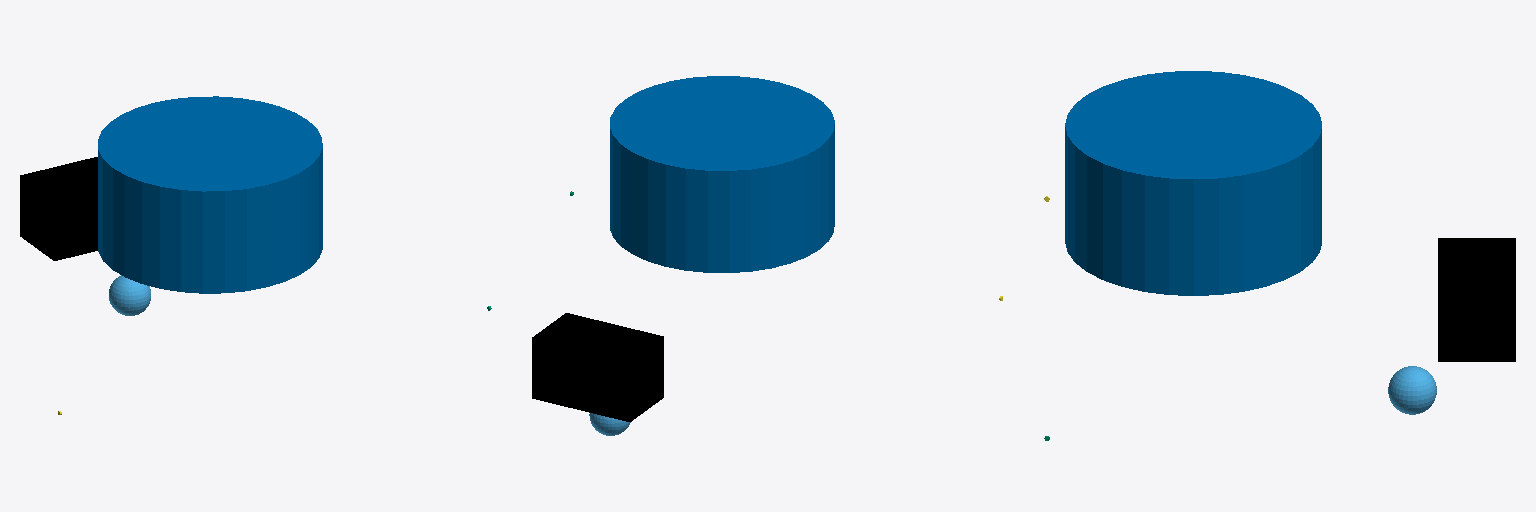
robot.urdf — 2wheels:
<?xml version="1.0"?>
<robot name="2wheels" xmlns:xacro="http://www.ros.org/wiki/xacro">
  
  <!-- Chassis link -->
  <link name="link_chassis">
    <!-- pose and inertial -->
    <pose>0 0 0 0 0 0</pose>
    <inertial>
      <mass value="10.0"/>
      <origin rpy="0 0 0" xyz="0.01 0 0.03"/>
      <inertia ixx="0.007" ixy="0" ixz="0" iyy="0.00547" iyz="0" izz="0.012023"/>
    </inertial>
    <!-- body -->
    <collision name="collision_chassis">
      <origin rpy=" 0 0 0" xyz="0.01 0 0.03"/>
      <geometry>
        <box size="0.18 0.2 0.06"/> <!-- ancho, largo, alto -->
      </geometry>
    </collision>
    <visual>
      <origin rpy="0 0 0.0" xyz="0.0 0 0.0"/>
      <geometry>
        <mesh filename="package://two_wheels_description/meshes/robotmodel.dae"/>
      </geometry>
      <material name="blue"/> <!-- This is only for Rviz visualization -->
    </visual>
  </link>
  
  <!-- caster joint -->
  <joint name="joint_caster" type="continuous">
    <origin rpy="0 0 0" xyz="0.008 0.085 -0.015"/>
    <child link="caster_wheel"/>
    <parent link="link_chassis"/>
    <axis rpy="0 0 0" xyz="0 0 1"/>
    <limit effort="1000" velocity="100"/>
    <joint_properties damping="0.0" friction="0.0"/>
  </joint>

  
  <!-- caster front link -->
  <link name="caster_wheel">
    <inertial>
      <mass value="0.05"/>
      <origin rpy="0 0 0" xyz="0 0 0"/>
      <inertia ixx="0.000001" ixy="0" ixz="0" iyy="0.000001" iyz="0" izz="0.000001"/>
    </inertial>
    <collision name="caster_front_collision">
      <origin rpy=" 0 0 0" xyz="0.0 0 0"/>
      <geometry>
        <sphere radius="0.01"/>
      </geometry>
      <surface>
        <friction>
          <ode>
            <mu>0</mu>
            <mu2>0</mu2>
            <slip1>0.0</slip1>
            <slip2>0.0</slip2>
          </ode>
        </friction>
      </surface>
    </collision>
    <visual name="caster_front_visual">
      <origin rpy=" 0 0 0" xyz="0.0 0 0"/>
      <geometry>
        <sphere radius="0.0095"/>
      </geometry>
    </visual>
  </link>
  <gazebo reference="caster_wheel">
    <mu1 value="0.0"/>
    <mu2 value="0.0"/>
    <kp value="10000000.0"/>
    <kd value="1.0"/>
    <fdir1 value="0 0 0"/>
    <material>Gazebo/Grey</material>
    <turnGravityOff>false</turnGravityOff>
  </gazebo>
  
  



  
  
  
  <!-- XXXXXXXXXXX -->
  <!-- Right wheel -->
  <!-- XXXXXXXXXXX -->
  <!-- Joint between right wheel and chassis -->
  <joint name="joint_right_wheel" type="continuous">
    <origin rpy="0 1.570 0" xyz="0.11 -0.057 0.012"/>
    <child link="link_right_wheel"/>
    <parent link="link_chassis"/>
    <axis rpy="0 0 0" xyz="0 0 -1"/>
    <limit effort="1000" velocity="100"/>
    <joint_properties damping="0.01" friction="0.01"/>
  </joint>
  <!-- right link -->
  <link name="link_right_wheel">
    <inertial>
      <mass value="0.1"/>
      <origin rpy="0 0 0" xyz="0 0 0"/>
      <inertia ixx="0.000016458" ixy="0" ixz="0" iyy="0.000016458" iyz="0" izz="0.000016458"/>
    </inertial>
     <surface>
        <friction>
          <ode>
            <mu>0.01</mu>
            <mu2>0.01</mu2>
          </ode>
        </friction>
      </surface>
    <collision name="link_right_wheel_collision">
      <origin rpy="0 0 0" xyz="0 0 0"/>
      <geometry>
        <cylinder length="0.01" radius="0.025"/>
      </geometry>
    </collision>
    <visual name="link_right_wheel_visual">
      <origin rpy="0 0 0" xyz="0 0 0"/>
      <geometry>
        <cylinder length="0.001" radius="0.001"/>
      </geometry>
    </visual>
  </link>

   
  <!-- XXXXXXXXXXX -->
  <!-- LEFT wheel -->
  <!-- XXXXXXXXXXX -->
   <!-- Joint between LEFT wheel and chassis -->
  <joint name="joint_left_wheel" type="continuous">
        <!-- Previous  xyz="-0.095 -0.055 0.01 -->
        <origin rpy="0 -1.570 0" xyz="-0.11 -0.057 0.012"/> <!-- PAY ATTENTION NEGATIVE 'y' -->
        <child link="link_left_wheel"/>
        <parent link="link_chassis"/>
        <axis rpy="0 0 0" xyz="0 0 1"/>
        <limit effort="1000" velocity="100"/>
        <joint_properties damping="0.01" friction="0.01"/>
  </joint>
  <!-- left link -->
  <link name="link_left_wheel">
        <inertial>
          <mass value="0.1"/>
          <origin rpy="0 0 0" xyz="0 0 0"/>
          <inertia ixx="0.000016458" ixy="0" ixz="0" iyy="0.000016458" iyz="0" izz="0.000016458"/>
        </inertial>
         <surface>
        <friction>
          <ode>
            <mu>0.01</mu>
            <mu2>0.01</mu2>
          </ode>
        </friction>
      </surface>
        <collision name="link_left_wheel_collision">
          <origin rpy="0 0 0" xyz="0 0 0"/>
          <geometry>
            <cylinder length="0.01" radius="0.025"/>
          </geometry>
        </collision>
        <visual name="link_left_wheel_visual">
          <origin rpy="0 0 0" xyz="0 0 0"/>
          <geometry>
            <cylinder length="0.001" radius="0.001"/>
          </geometry>
        </visual>
  </link>

  
 


  <!-- laser link -->
  <link name="sensor_laser">
    <inertial>
      <origin xyz="0 0 0" rpy="0 0 0" />
      <mass value="0.25" />
      <inertia ixx="0.000208333" ixy="0" ixz="0" iyy="0.000208333" iyz="0" izz="0.0003125"/>
    </inertial>
    
    <visual>
      <origin xyz="0 0 0" rpy="0 0 0" />
      <geometry>
        <cylinder radius="0.05" length="0.05"/>
      </geometry>
      <material name="white" />
    </visual>
    
    <collision>
      <origin xyz="0 0 0" rpy="0 0 0"/>
      <geometry>
        <cylinder radius="0.05" length="0.05"/>
      </geometry>
    </collision>
  </link>

  <!-- joint to attach the laser to the chassis -->
  <joint name="joint_sensor_laser" type="fixed">
    <origin xyz="0.0 0 0.07" rpy="0 0 0"/>
    <parent link="link_chassis"/>
    <child link="sensor_laser"/>
  </joint>

  <!-- Plugin for the wheels -->
  <gazebo>
    <plugin filename="libgazebo_ros_diff_drive.so" name="differential_drive_controller">
      <legacyMode>true</legacyMode> 
      <alwaysOn>true</alwaysOn>
      <updateRate>100</updateRate>
      <leftJoint>joint_right_wheel</leftJoint>
      <rightJoint>joint_left_wheel</rightJoint>
      <wheelSeparation>0.22</wheelSeparation>
      <wheelDiameter>0.025</wheelDiameter>
      <torque>4000</torque>
      <commandTopic>cmd_vel</commandTopic>
      <odometryTopic>odom</odometryTopic>
      <odometryFrame>odom</odometryFrame>
      <robotBaseFrame>link_chassis</robotBaseFrame>
    </plugin>
  </gazebo>

    <!-- plugin for the laser -->
   <gazebo reference="sensor_laser">
    <sensor type="ray" name="head_hokuyo_sensor">
      <pose>0 0 0 0 0 0</pose>
      <visualize>false</visualize>
      <update_rate>20</update_rate>
      <ray>
        <scan>
          <horizontal>
            <samples>720</samples>
            <resolution>1</resolution>
            <min_angle>-1.570796</min_angle>
            <max_angle>1.570796</max_angle>
          </horizontal>
        </scan>
        <range>
          <min>0.10</min>
          <max>10.0</max>
          <resolution>0.01</resolution>
        </range>
        <noise>
          <type>gaussian</type>
          <mean>0.0</mean>
          <stddev>0.01</stddev>
        </noise>
      </ray>
      <plugin name="gazebo_ros_head_hokuyo_controller" filename="libgazebo_ros_laser.so">
        <topicName>/m2wr/laser/scan</topicName>
        <frameName>sensor_laser</frameName>
      </plugin>
    </sensor>
  </gazebo>


  <!-- XXXXXXXXXXXXXXXXXXXXXXXXXXXXXX
  Simulation of a camera:
  XXXXXXXXXXXXXXXXXXXXXXXXXXXXX-->
  <joint name="camera_joint" type="fixed">
    <axis xyz="0 0 0" />
    <origin xyz="0.0 0.11 0.02" rpy="0 0 1.5708"/>
    <parent link="link_chassis"/>
    <child link="camera_link"/>
  </joint>
 <!-- Camera -->
  <link name="camera_link">
    <collision>
      <origin xyz="0 0 0" rpy="0 0 0"/>
      <geometry>
    <box size="0.03 0.05 0.03"/>
      </geometry>
    </collision>

    <visual>
      <origin xyz="0 0 0" rpy="0 0 0"/>
      <geometry>
    <box size="0.03 0.05 0.03"/>
      </geometry>
      <material name="Black_1">
       <color rgba="0.0 0.0 0.0 1.0"/>
     </material>
    </visual>

    <inertial>
      <mass value="0.001" />
      <origin xyz="0 0 0" rpy="0 0 0"/>
      <inertia ixx="0.000001" ixy="0" ixz="0" iyy="0.000001" iyz="0" izz="0.000001" />
    </inertial>
  </link>
  <!-- Plugin for the camera -->
   <gazebo reference="camera_link">
    <sensor type="camera" name="camera1">
      <update_rate>30.0</update_rate>
      <camera name="camera1">
        <horizontal_fov>1</horizontal_fov>
        <image>
          <width>640</width>
          <height>480</height>
          <format>R8G8B8</format>
        </image>
        <clip>
          <near>0.02</near>
          <far>300</far>
        </clip>
        <noise>
          <type>gaussian</type>
          <!-- Noise is sampled independently per pixel on each frame.
               That pixel's noise value is added to each of its color
               channels, which at that point lie in the range [0,1]. -->
          <mean>0.0</mean>
          <stddev>0.007</stddev>
        </noise>
      </camera>
      <plugin name="camera_controller" filename="libgazebo_ros_camera.so">
        <alwaysOn>true</alwaysOn>
        <updateRate>0.0</updateRate>
        <cameraName>rrbot/camera1</cameraName>
        <imageTopicName>image_raw</imageTopicName>
        <cameraInfoTopicName>camera_info</cameraInfoTopicName>
        <frameName>camera_link</frameName>
        <hackBaseline>0.07</hackBaseline>
        <distortionK1>0.0</distortionK1>
        <distortionK2>0.0</distortionK2>
        <distortionK3>0.0</distortionK3>
        <distortionT1>0.0</distortionT1>
        <distortionT2>0.0</distortionT2>
      </plugin>
    </sensor>
  </gazebo>

<!-- ros_control Gazebo plugin -->
  <gazebo>
    <plugin name="gazebo_ros_control" filename="libgazebo_ros_control.so">
      <robotNamespace>/two_wheels_robot</robotNamespace>
      <robotSimType>gazebo_ros_control/DefaultRobotHWSim</robotSimType>
    </plugin>
  </gazebo>

    
</robot>

--- What the picture shows (computed from the rendered views, not written in the file) ---
3 views of the same robot in one strip: view 1: azimuth 30°, elevation 25°; view 2: azimuth 150°, elevation 25°; view 3: azimuth 270°, elevation 25° (orthographic).
Model 2wheels with 6 links and 5 joints (3 continuous, 2 fixed), rooted at link_chassis, posed all joints at 0.
Visible links, largest first — view 1: sensor_laser, camera_link, caster_wheel; view 2: sensor_laser, camera_link, caster_wheel; view 3: sensor_laser, camera_link, caster_wheel.
Boxes of the visible links, x1,y1,x2,y2 form: sensor_laser: [98, 96, 322, 293]; camera_link: [20, 157, 97, 260]; caster_wheel: [109, 275, 150, 315]; sensor_laser: [610, 76, 834, 272]; camera_link: [532, 313, 663, 421]; caster_wheel: [589, 413, 630, 435]; sensor_laser: [1065, 71, 1321, 295]; camera_link: [1438, 238, 1515, 361]; caster_wheel: [1388, 366, 1436, 414].
Bounding box of the posed robot: 0.221 × 0.183 × 0.1195 m (x, y, z).
Meshes: 1 distinct files referenced, 0 mesh visuals loaded (none loaded); not drawn: 1 (file found but could not be loaded).
